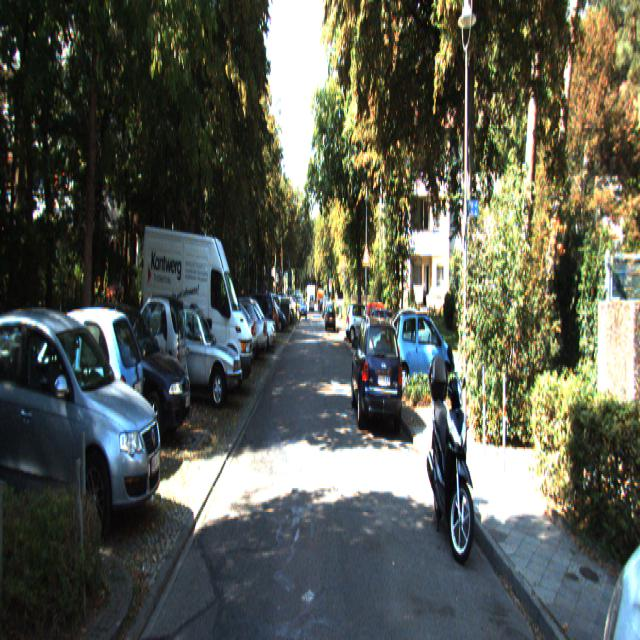Car: (0, 290, 165, 534), (9, 306, 147, 480), (57, 295, 193, 447), (140, 213, 254, 394), (424, 334, 479, 565), (142, 300, 242, 412), (119, 288, 188, 422), (351, 314, 404, 435), (393, 309, 456, 394), (325, 304, 336, 334)
